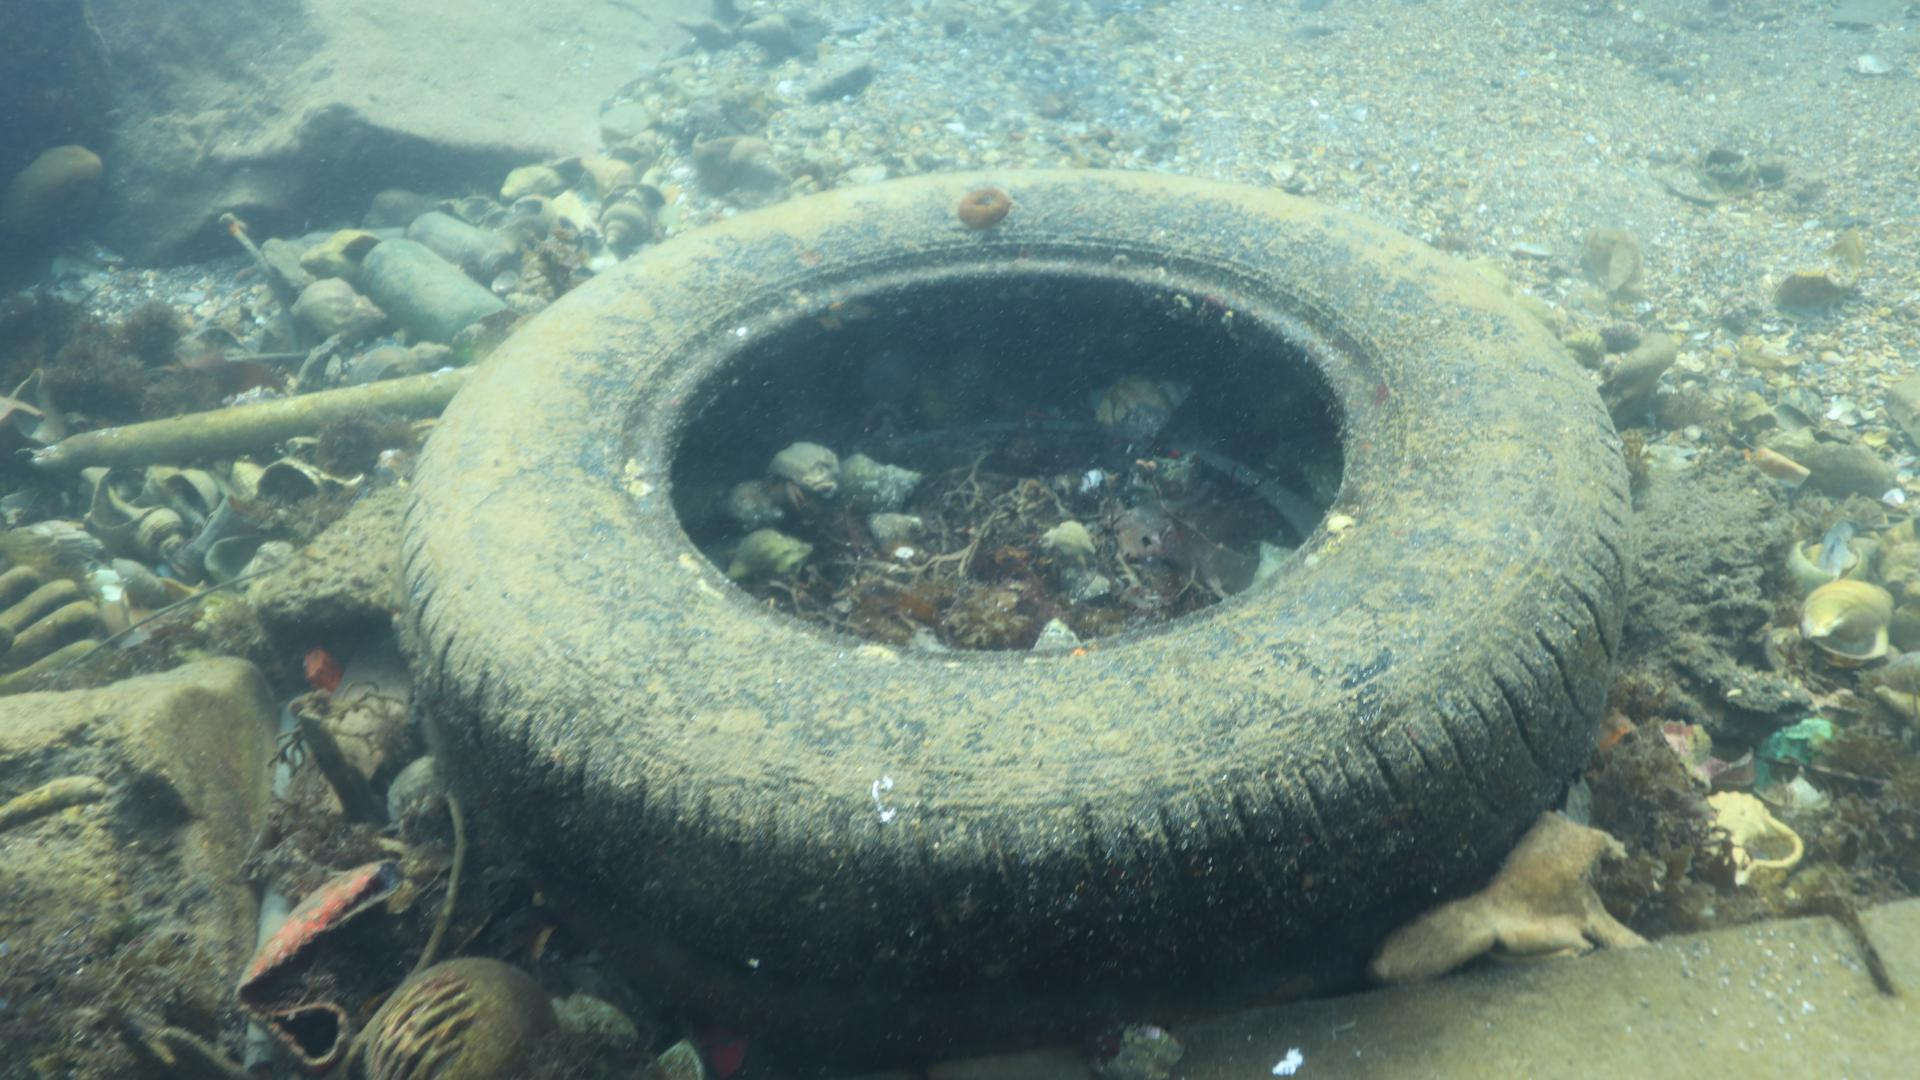tire: (394, 167, 1636, 1059)
wood: (919, 894, 1920, 1080)
